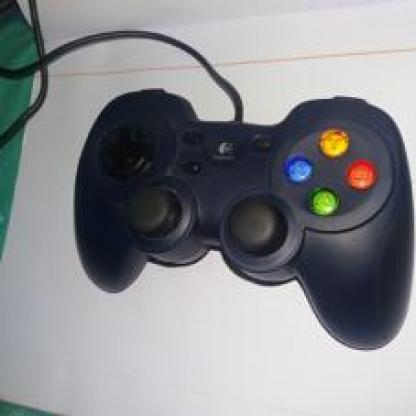gamepad: (72, 84, 411, 359)
